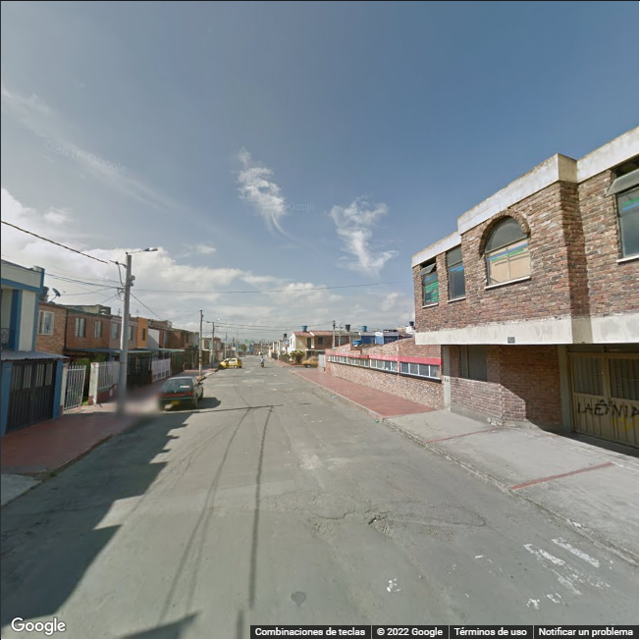D10: (254, 490, 302, 498)
D40: (364, 504, 391, 543)
